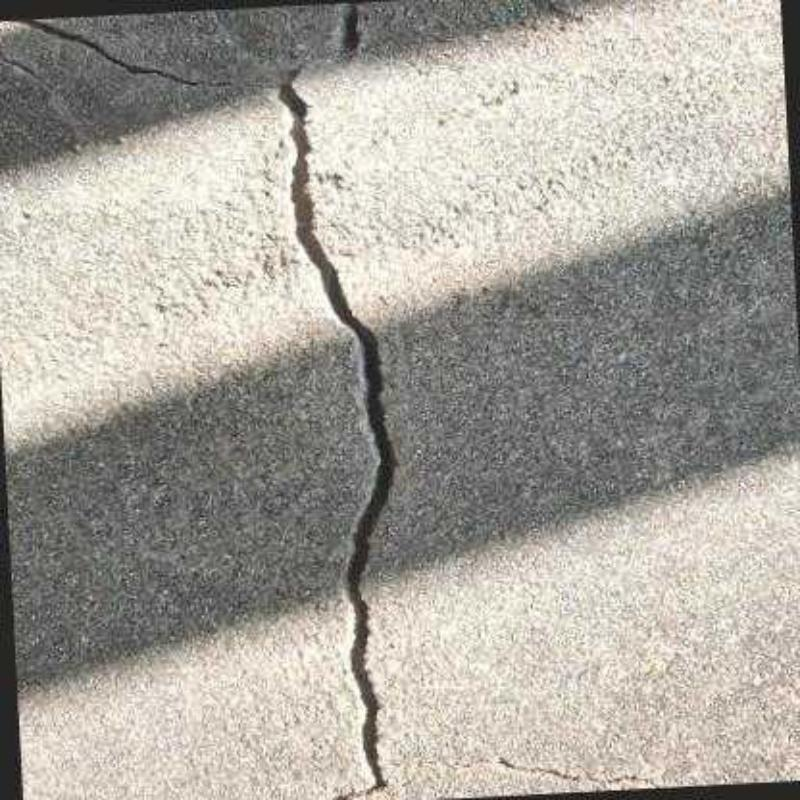pothole: (277, 64, 395, 800), (48, 23, 269, 87)
